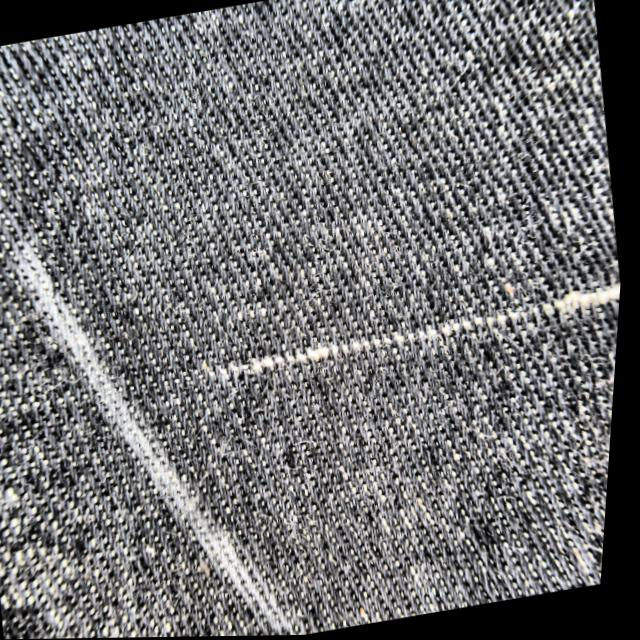Hole: (216, 285, 624, 380)
